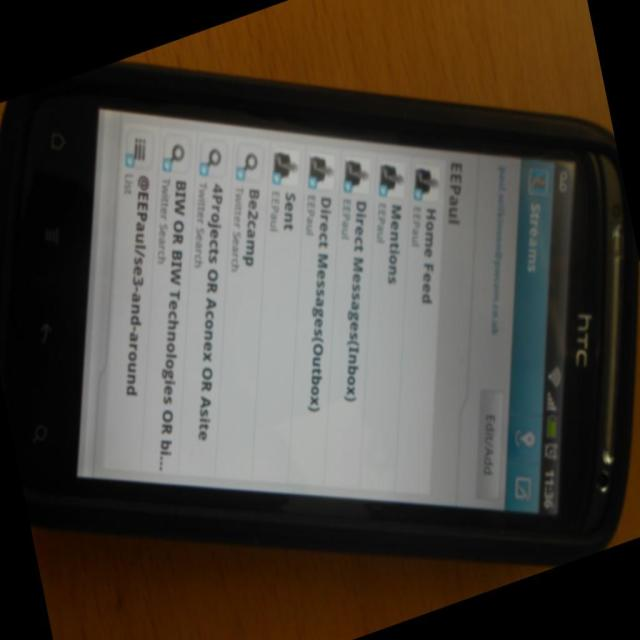handphone: (19, 69, 621, 564)
